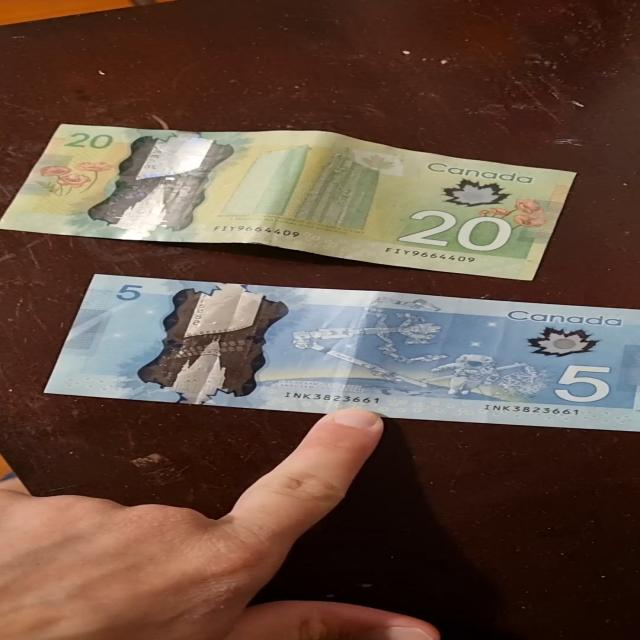20 cad: (38, 116, 589, 277)
5 cad: (100, 274, 638, 431)
